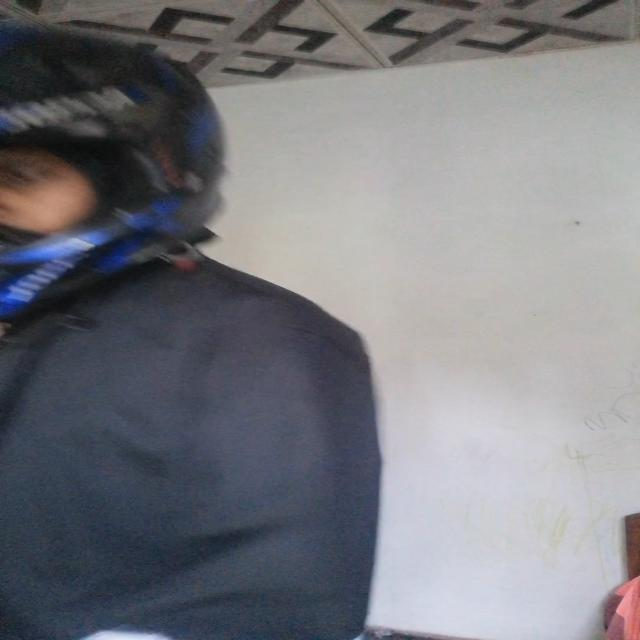Helmet_Wearer: (6, 19, 235, 311)
Jacket_Wearer: (2, 253, 421, 632)
Person: (8, 12, 380, 640)
